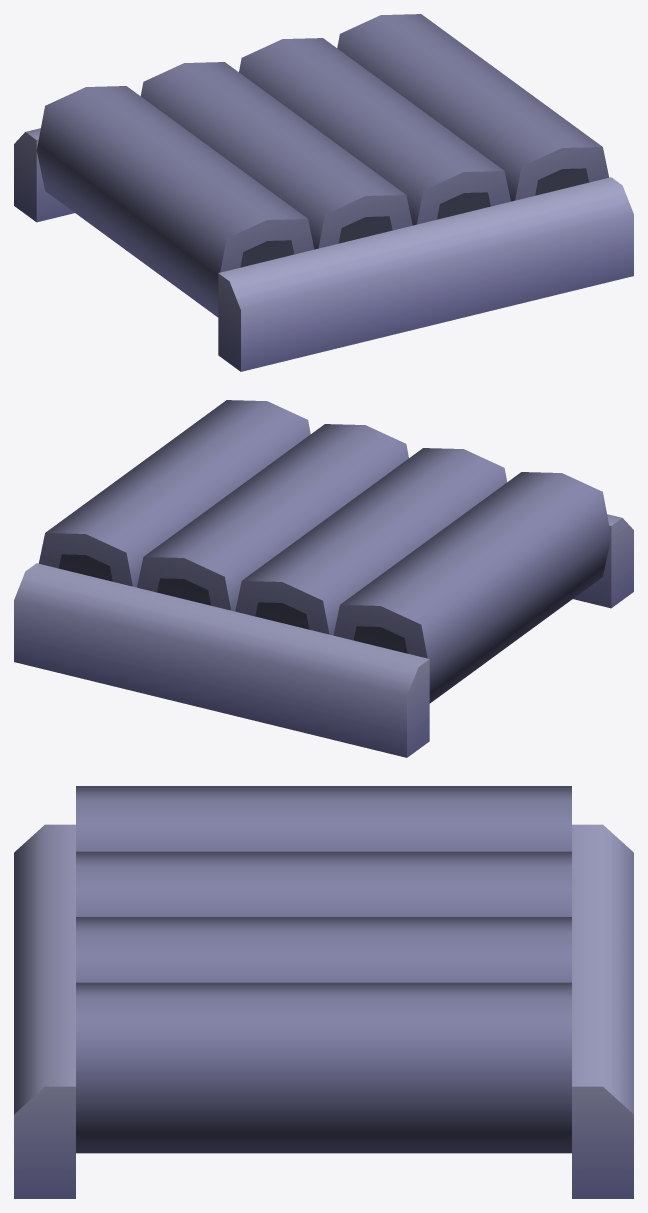
The model's file is kenney-factory-conveyor-bars-sides.glb.
3 views of the same model, one above another, from view 1: azimuth 30°, elevation 25°; view 2: azimuth 150°, elevation 25°; view 3: azimuth 270°, elevation 25° (orthographic). The views are drawn at different scales.
Parts seen in each view (by area): view 1: conveyor-bars-sides; view 2: conveyor-bars-sides; view 3: conveyor-bars-sides.
Boxes of the visible parts, left/top/right/bottom form: conveyor-bars-sides: left=14, top=14, right=633, bottom=371; conveyor-bars-sides: left=14, top=400, right=633, bottom=757; conveyor-bars-sides: left=14, top=786, right=633, bottom=1198.
Size of the model in its own units: 1 by 0.3 by 1.
1 material, 1 textured.
